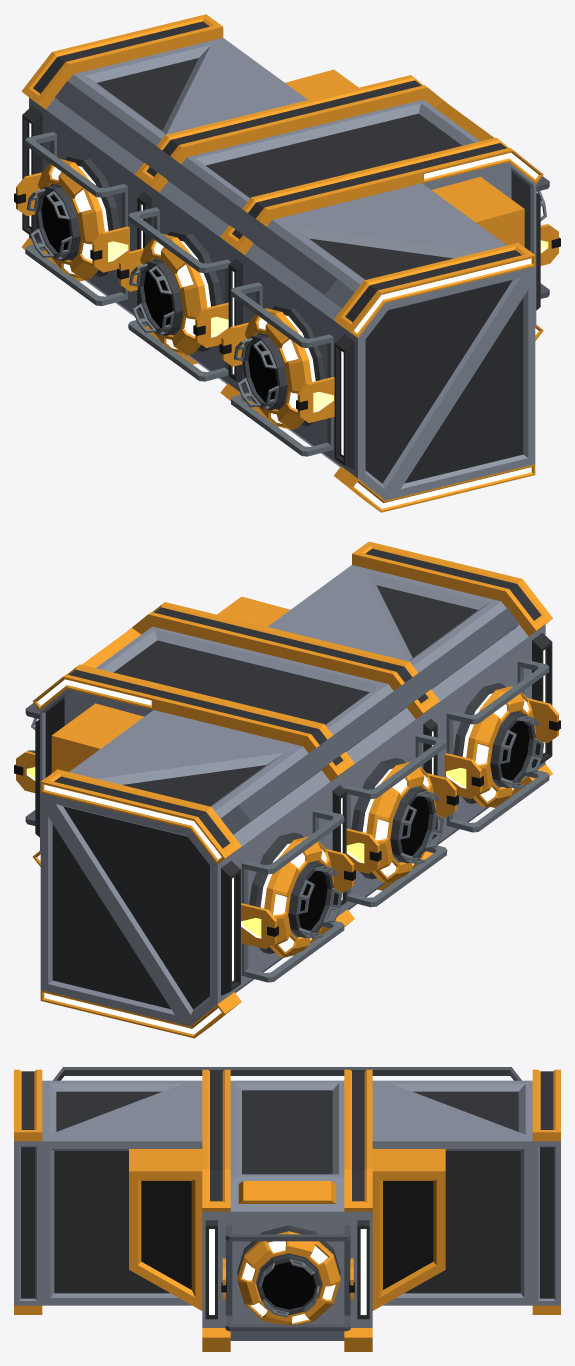
The model's file is SM_Pipe_connector.glb.
3 views of the same model, one above another, from view 1: azimuth 30°, elevation 25°; view 2: azimuth 150°, elevation 25°; view 3: azimuth 270°, elevation 25° (orthographic). The views are drawn at different scales.
Visible parts, largest first — view 1: SM_Pipe_connector; view 2: SM_Pipe_connector; view 3: SM_Pipe_connector.
Part boxes in pixels (left/top/right/bottom): SM_Pipe_connector: left=14, top=14, right=560, bottom=512; SM_Pipe_connector: left=14, top=541, right=560, bottom=1038; SM_Pipe_connector: left=14, top=1067, right=560, bottom=1351.
Bounding box in the file's own units: 4.31 × 2.37 × 6.43.
Materials: 3 (1 with a texture image).
